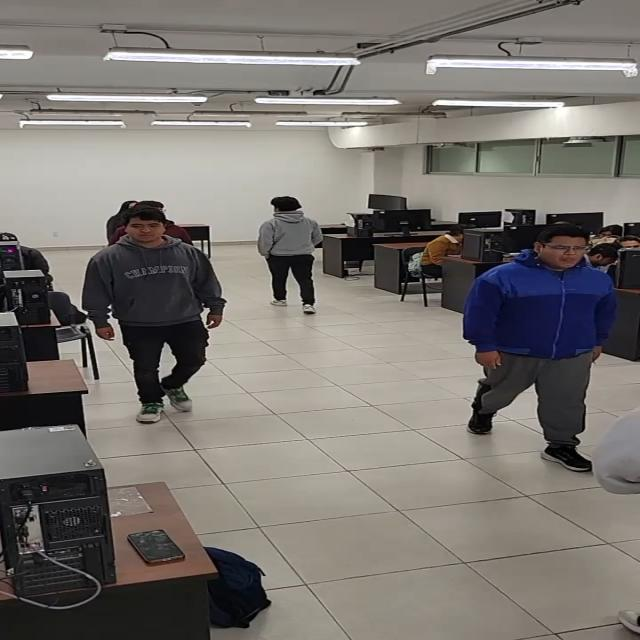Persona: (458, 224, 610, 476), (82, 206, 225, 422), (256, 194, 318, 316)
